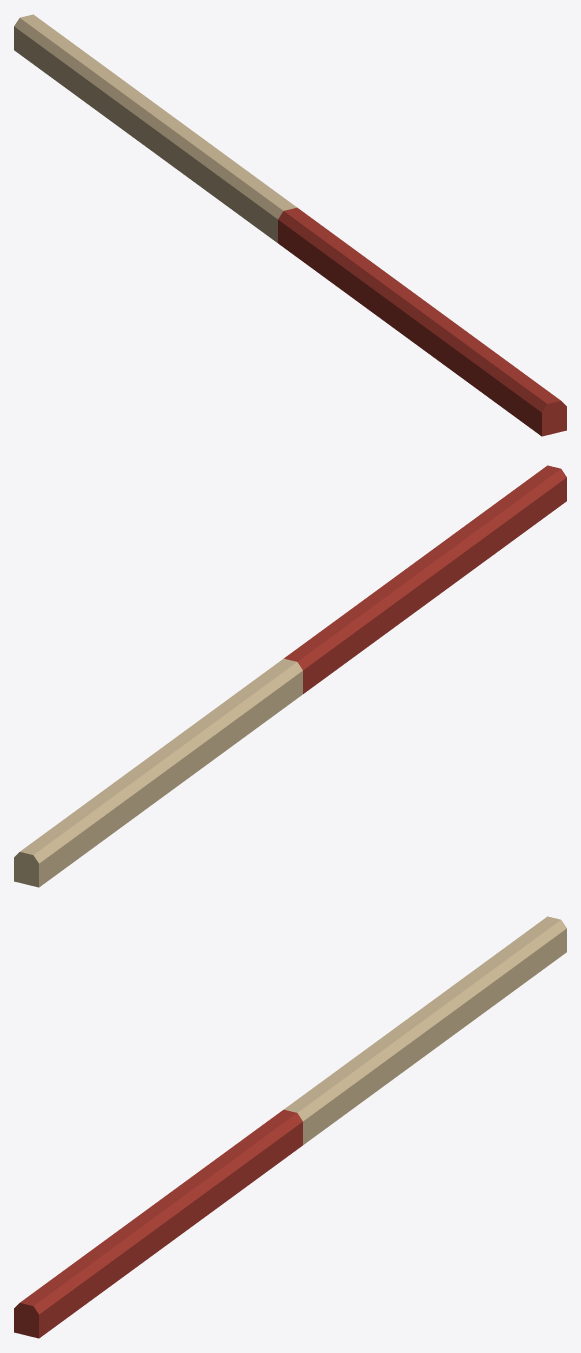
File: ds_trk_curb.glb
The picture shows the model from 3 angles, top to bottom: view 1: azimuth 30°, elevation 25°; view 2: azimuth 150°, elevation 25°; view 3: azimuth 330°, elevation 25°; orthographic projection.
Parts seen in each view (by area): view 1: ds_trk_curb; view 2: ds_trk_curb; view 3: ds_trk_curb.
Part boxes in pixels (x1,y1,x2,y2): ds_trk_curb: [14, 14, 566, 436]; ds_trk_curb: [14, 465, 566, 887]; ds_trk_curb: [14, 916, 566, 1338].
Size of the model in its own units: 0.2197 by 0.2598 by 8.
